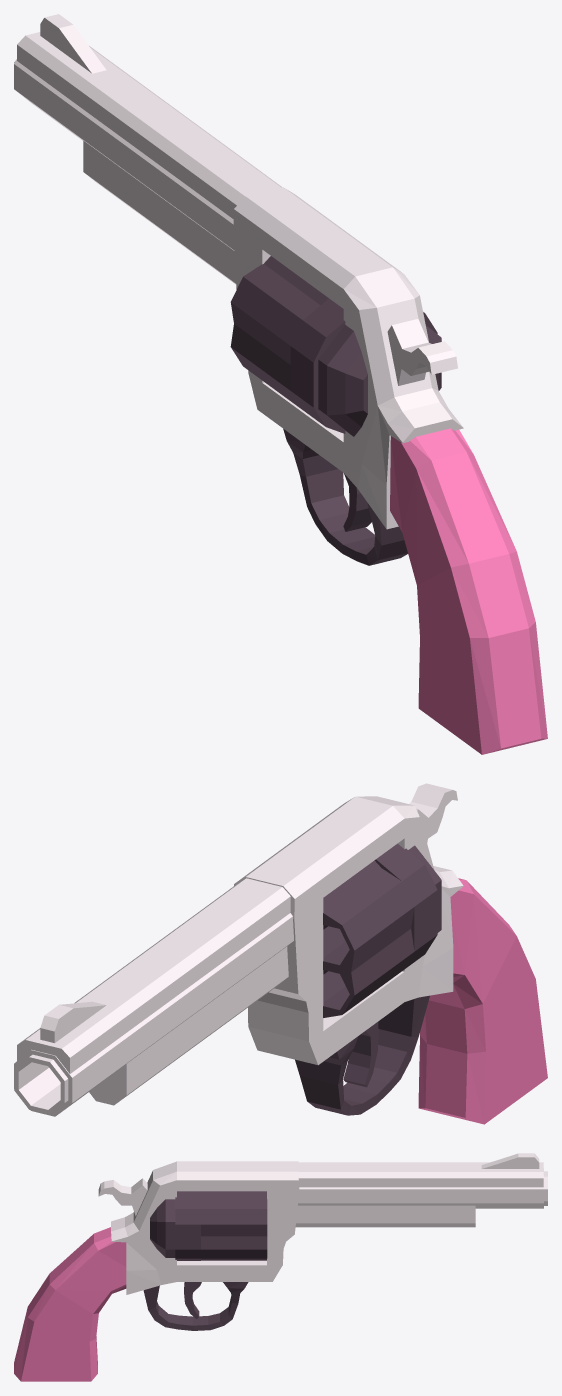
Rendered from Revolver_1.obj.
3 views of the same model, one above another, from view 1: azimuth 30°, elevation 25°; view 2: azimuth 150°, elevation 25°; view 3: azimuth 270°, elevation 25° (orthographic). The views are drawn at different scales.
Parts seen in each view (by area): view 1: Body, Grip, Cylinder, Hardware; view 2: Body, Grip, Cylinder, Hardware; view 3: Body, Grip, Cylinder, Hardware.
Part boxes in pixels (left/top/right/bottom): Body: left=14, top=14, right=463, bottom=529; Grip: left=390, top=428, right=547, bottom=754; Cylinder: left=230, top=256, right=437, bottom=433; Hardware: left=283, top=325, right=441, bottom=565; Body: left=14, top=783, right=463, bottom=1116; Grip: left=418, top=878, right=547, bottom=1124; Cylinder: left=323, top=843, right=437, bottom=1017; Hardware: left=295, top=845, right=441, bottom=1115; Body: left=98, top=1153, right=547, bottom=1294; Grip: left=14, top=1227, right=126, bottom=1381; Cylinder: left=175, top=1191, right=267, bottom=1260; Hardware: left=143, top=1199, right=248, bottom=1330.
Bounding box in the file's own units: 0.505 × 1.53 × 3.4.
